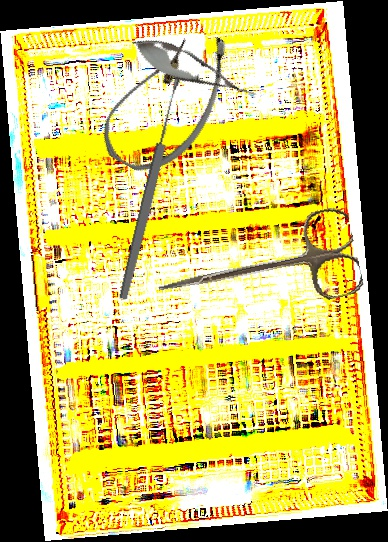Cannula: (90, 8, 246, 190)
Iris Scissors: (149, 204, 366, 337)
Micro Scissor: (125, 28, 264, 112)
Surgical Spoon: (116, 74, 185, 303)
